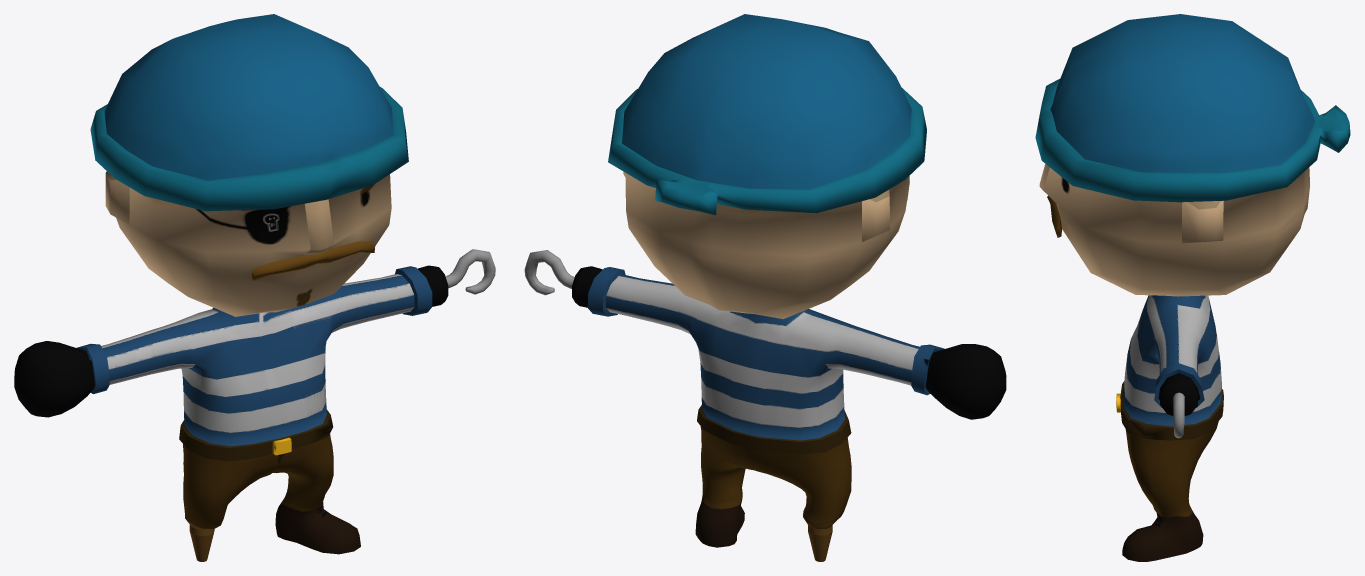
File: pirate.fbx
3 renders of one model, left to right at view 1: azimuth 30°, elevation 25°; view 2: azimuth 150°, elevation 25°; view 3: azimuth 270°, elevation 25°, orthographic. The views are drawn at different scales.
Parts seen in each view (by area): view 1: thief.003; view 2: thief.003; view 3: thief.003.
Boxes of the visible parts, box(x1,y1,x2,y2) form: thief.003: box(14, 14, 495, 561); thief.003: box(524, 14, 1006, 561); thief.003: box(1035, 14, 1350, 561).
Bounding box in the file's own units: 464 × 476 × 279.
4 materials, 4 textured.
